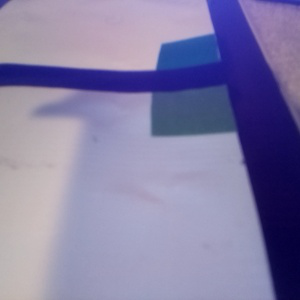bottom_left: (152, 70, 272, 136)
top_left: (157, 35, 251, 85)
